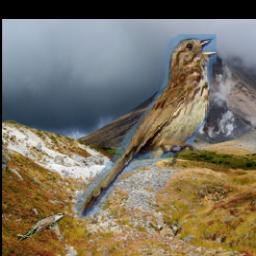Cuckoo: (19, 212, 66, 241)
Sparrow: (73, 35, 217, 220)
